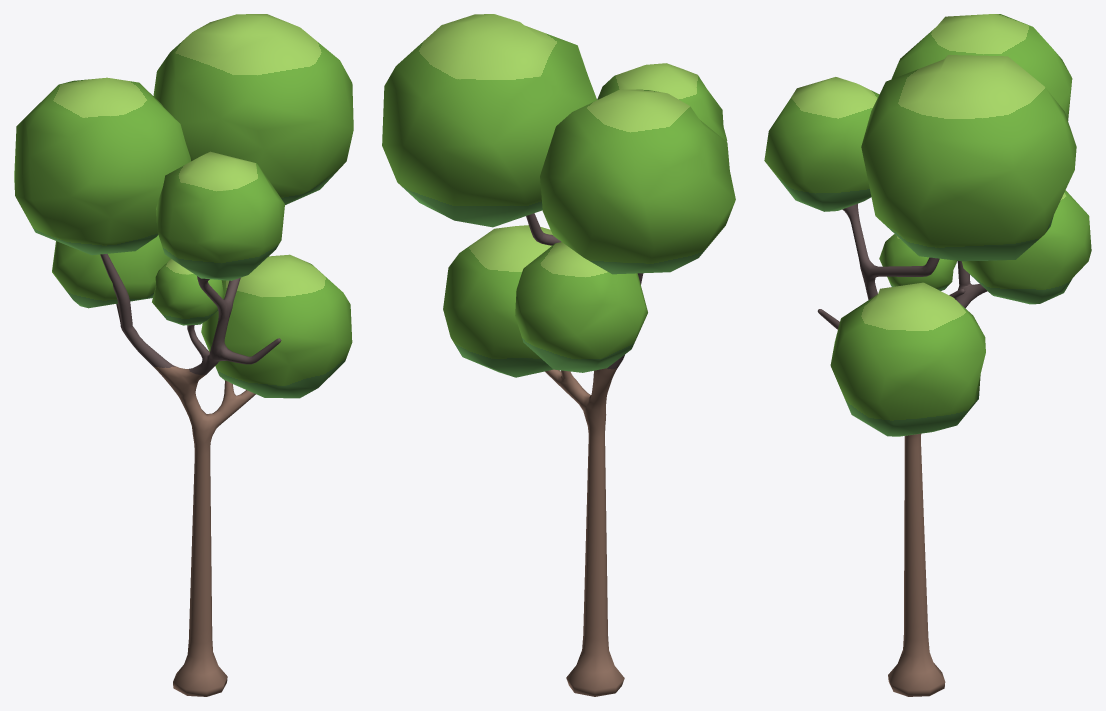
The model's file is arbol_02.fbx.
The picture shows the model from 3 angles, left to right: view 1: azimuth 30°, elevation 25°; view 2: azimuth 150°, elevation 25°; view 3: azimuth 270°, elevation 25°; orthographic projection. The views are drawn at different scales.
Parts seen in each view (by area): view 1: arbol_02; view 2: arbol_02; view 3: arbol_02.
Part boxes in pixels (x1,y1,x2,y2): arbol_02: (14,14,353,696); arbol_02: (382,14,735,696); arbol_02: (764,14,1091,696).
Bounding box in the file's own units: 1369 × 2611 × 1167.
